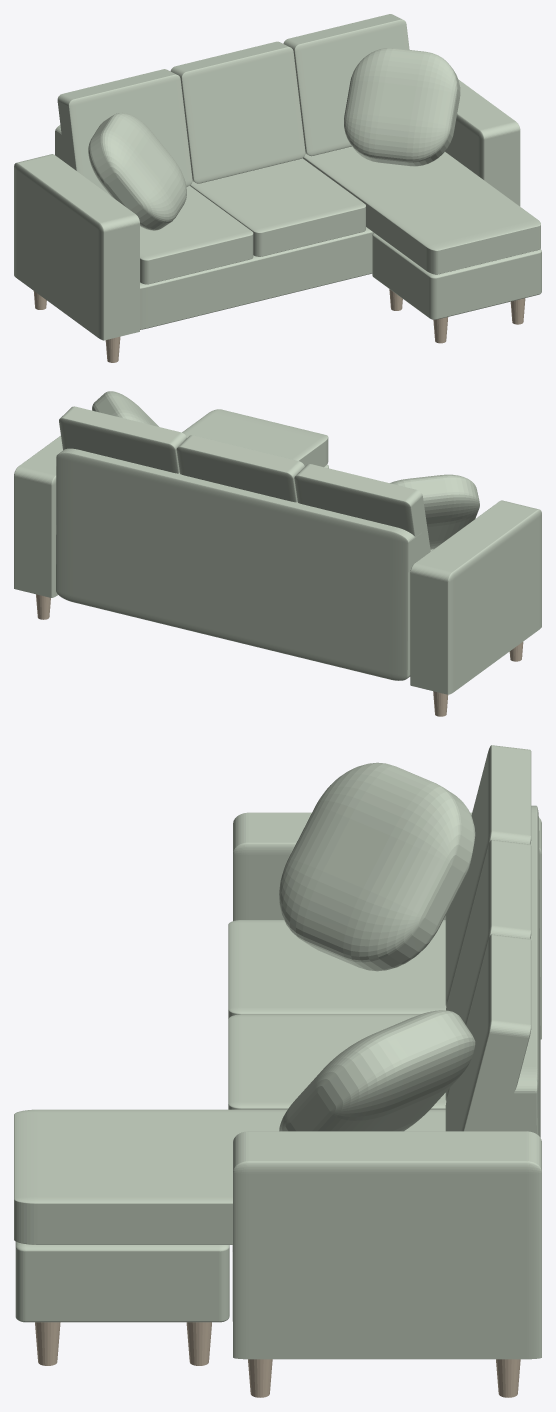
File: manseok_kim-sofa-2118.glb
3 views of the same model, one above another, from view 1: azimuth 30°, elevation 25°; view 2: azimuth 150°, elevation 25°; view 3: azimuth 270°, elevation 25° (orthographic). The views are drawn at different scales.
Visible parts, largest first — view 1: Mesh_Mesh_head_geo.001_lambert2SG.001; view 2: Mesh_Mesh_head_geo.001_lambert2SG.001; view 3: Mesh_Mesh_head_geo.001_lambert2SG.001.
Boxes of the visible parts, x1=… form: Mesh_Mesh_head_geo.001_lambert2SG.001: x1=14, y1=14, x2=541, y2=362; Mesh_Mesh_head_geo.001_lambert2SG.001: x1=14, y1=391, x2=541, y2=716; Mesh_Mesh_head_geo.001_lambert2SG.001: x1=14, y1=745, x2=541, y2=1397.
Size of the model in its own units: 0.0587 by 0.0274 by 0.0373.
